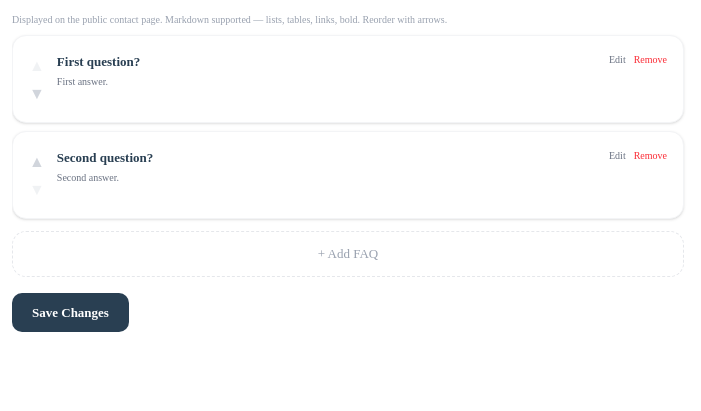
FaqsTab › persists via updateClientFaqs and reports success
The width and height of the screenshot is (701, 411).
Click the button "Save Changes" at point(70, 312), box [12,292,129,332]
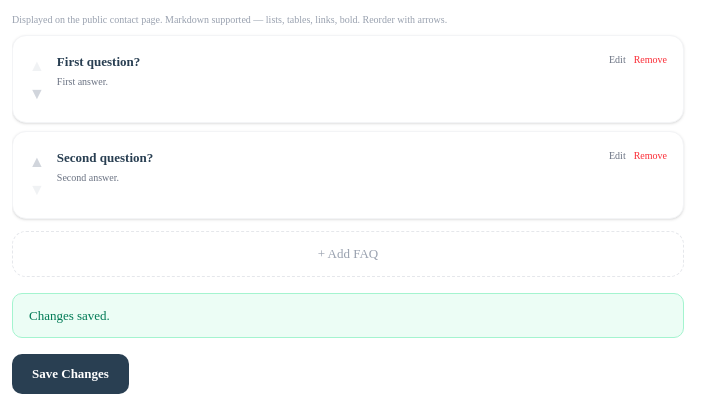
Expected: the text "Changes saved." is shown, [12,292,684,338]
